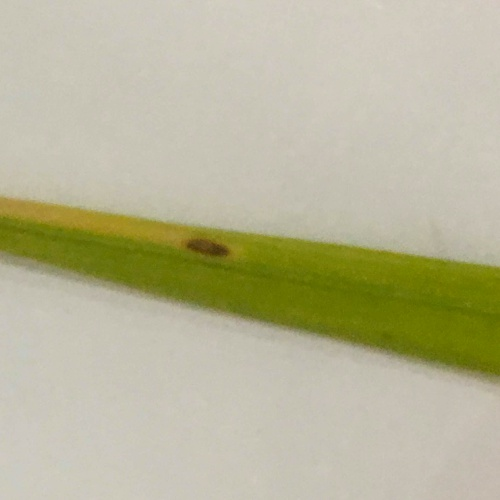Busuk Leher: (172, 223, 242, 269)
